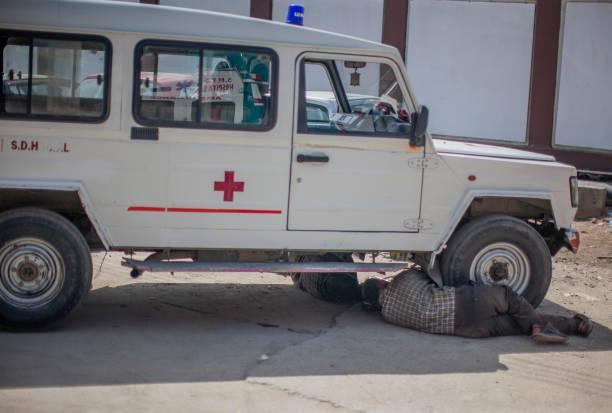ER: (2, 1, 580, 331)
